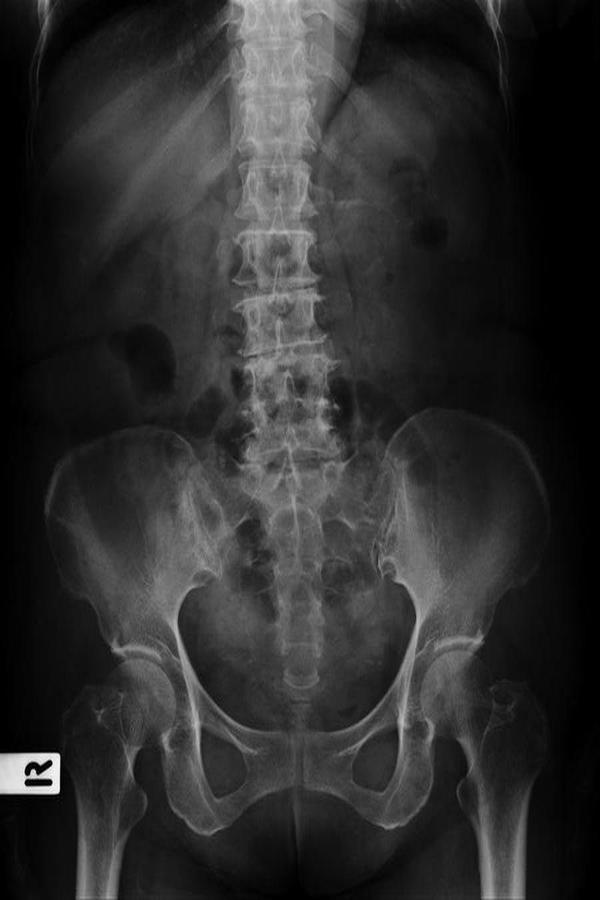lumbar scoliosis: (219, 4, 343, 503)
